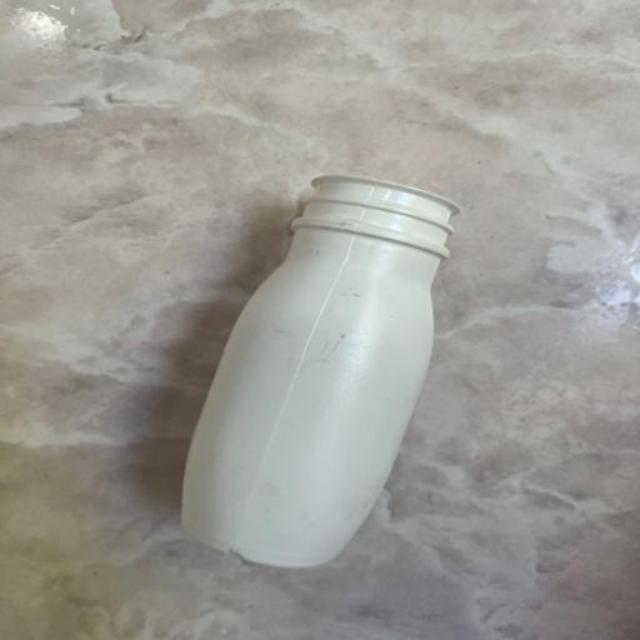HDPE: (102, 150, 519, 625)
